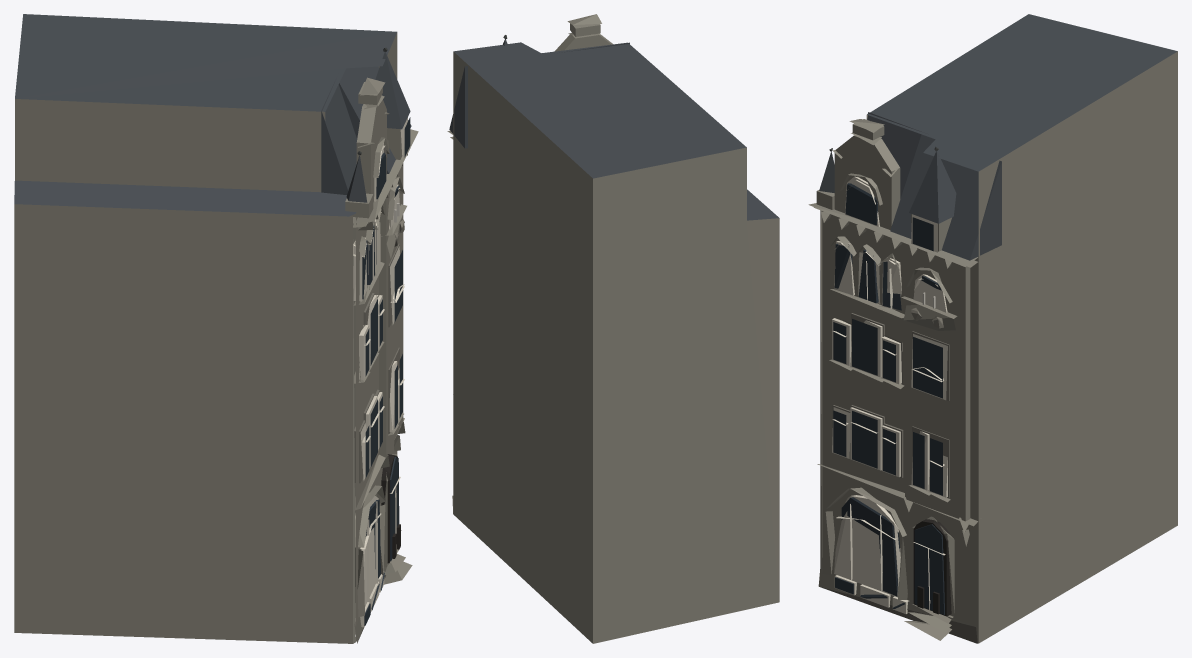
The model's file is damrak-37.lod1.glb.
3 renders of one model, left to right at view 1: azimuth 30°, elevation 25°; view 2: azimuth 150°, elevation 25°; view 3: azimuth 270°, elevation 25°, orthographic. The views are drawn at different scales.
Visible parts, largest first — view 1: damrak-37; view 2: damrak-37; view 3: damrak-37.
Part boxes in pixels (left/top/right/bottom): damrak-37: left=14, top=14, right=418, bottom=643; damrak-37: left=447, top=14, right=779, bottom=643; damrak-37: left=808, top=14, right=1177, bottom=643.
Bounding box in the file's own units: 16.69 × 21.73 × 15.1.
